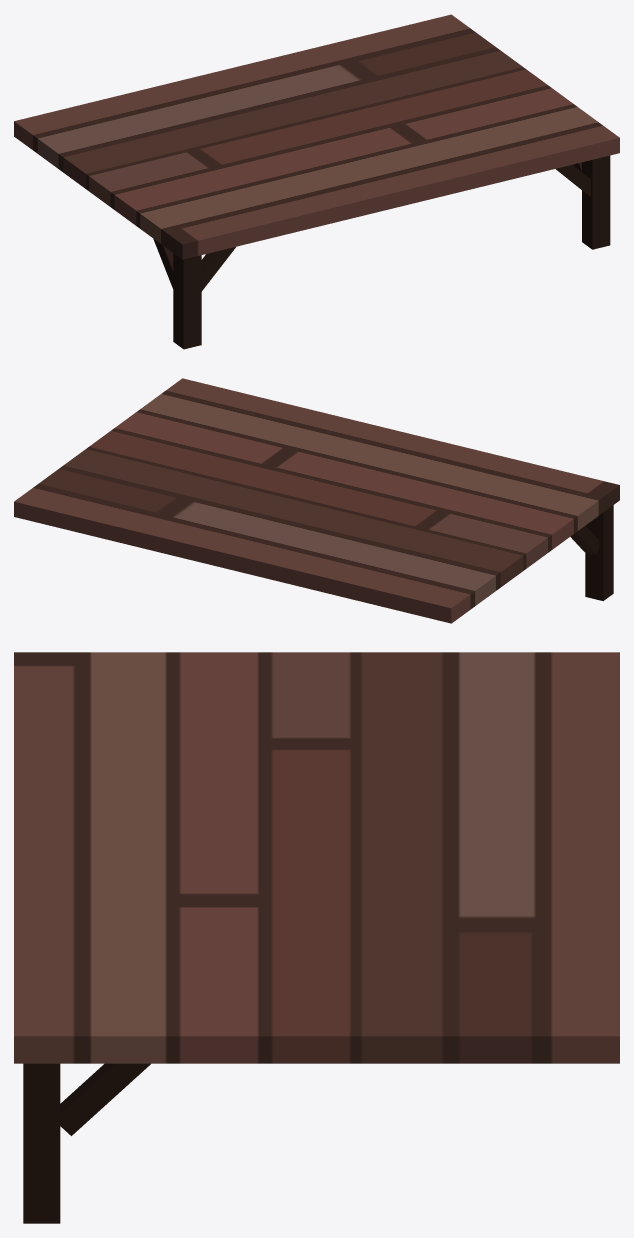
Rendered from Deck 3M.glb.
3 views of the same model, one above another, from view 1: azimuth 30°, elevation 25°; view 2: azimuth 150°, elevation 25°; view 3: azimuth 270°, elevation 25° (orthographic). The views are drawn at different scales.
Parts seen in each view (by area): view 1: Deck 3M; view 2: Deck 3M; view 3: Deck 3M.
Boxes of the visible parts, left/top/right/bottom form: Deck 3M: left=14, top=14, right=619, bottom=349; Deck 3M: left=14, top=378, right=619, bottom=623; Deck 3M: left=14, top=652, right=619, bottom=1223.
Size of what is drawn, in the model's own units: 3 by 0.7053 by 2.
Materials: 2 (2 with a texture image).
